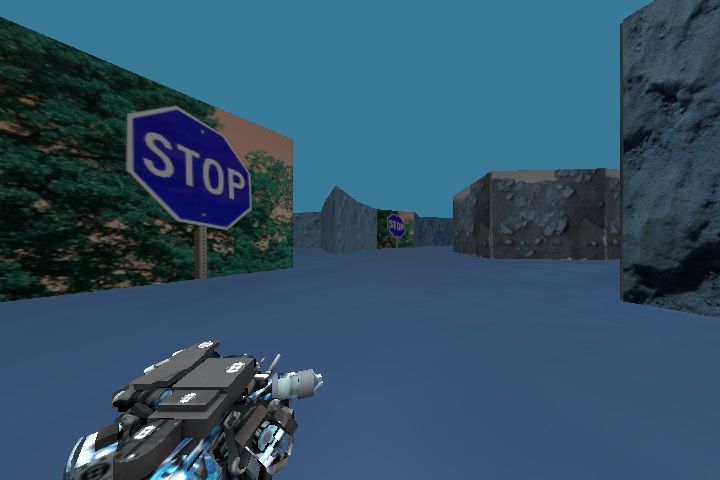stop_sign: (120, 96, 260, 235), (384, 212, 408, 238)
